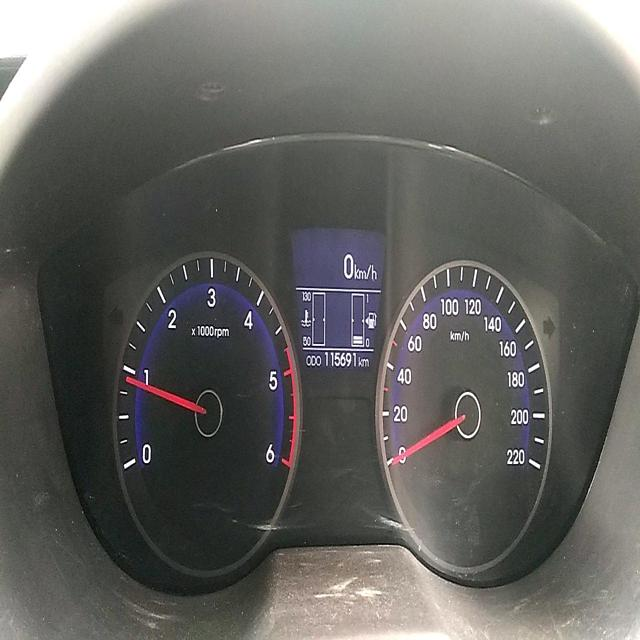odometer: (323, 351, 358, 369)
